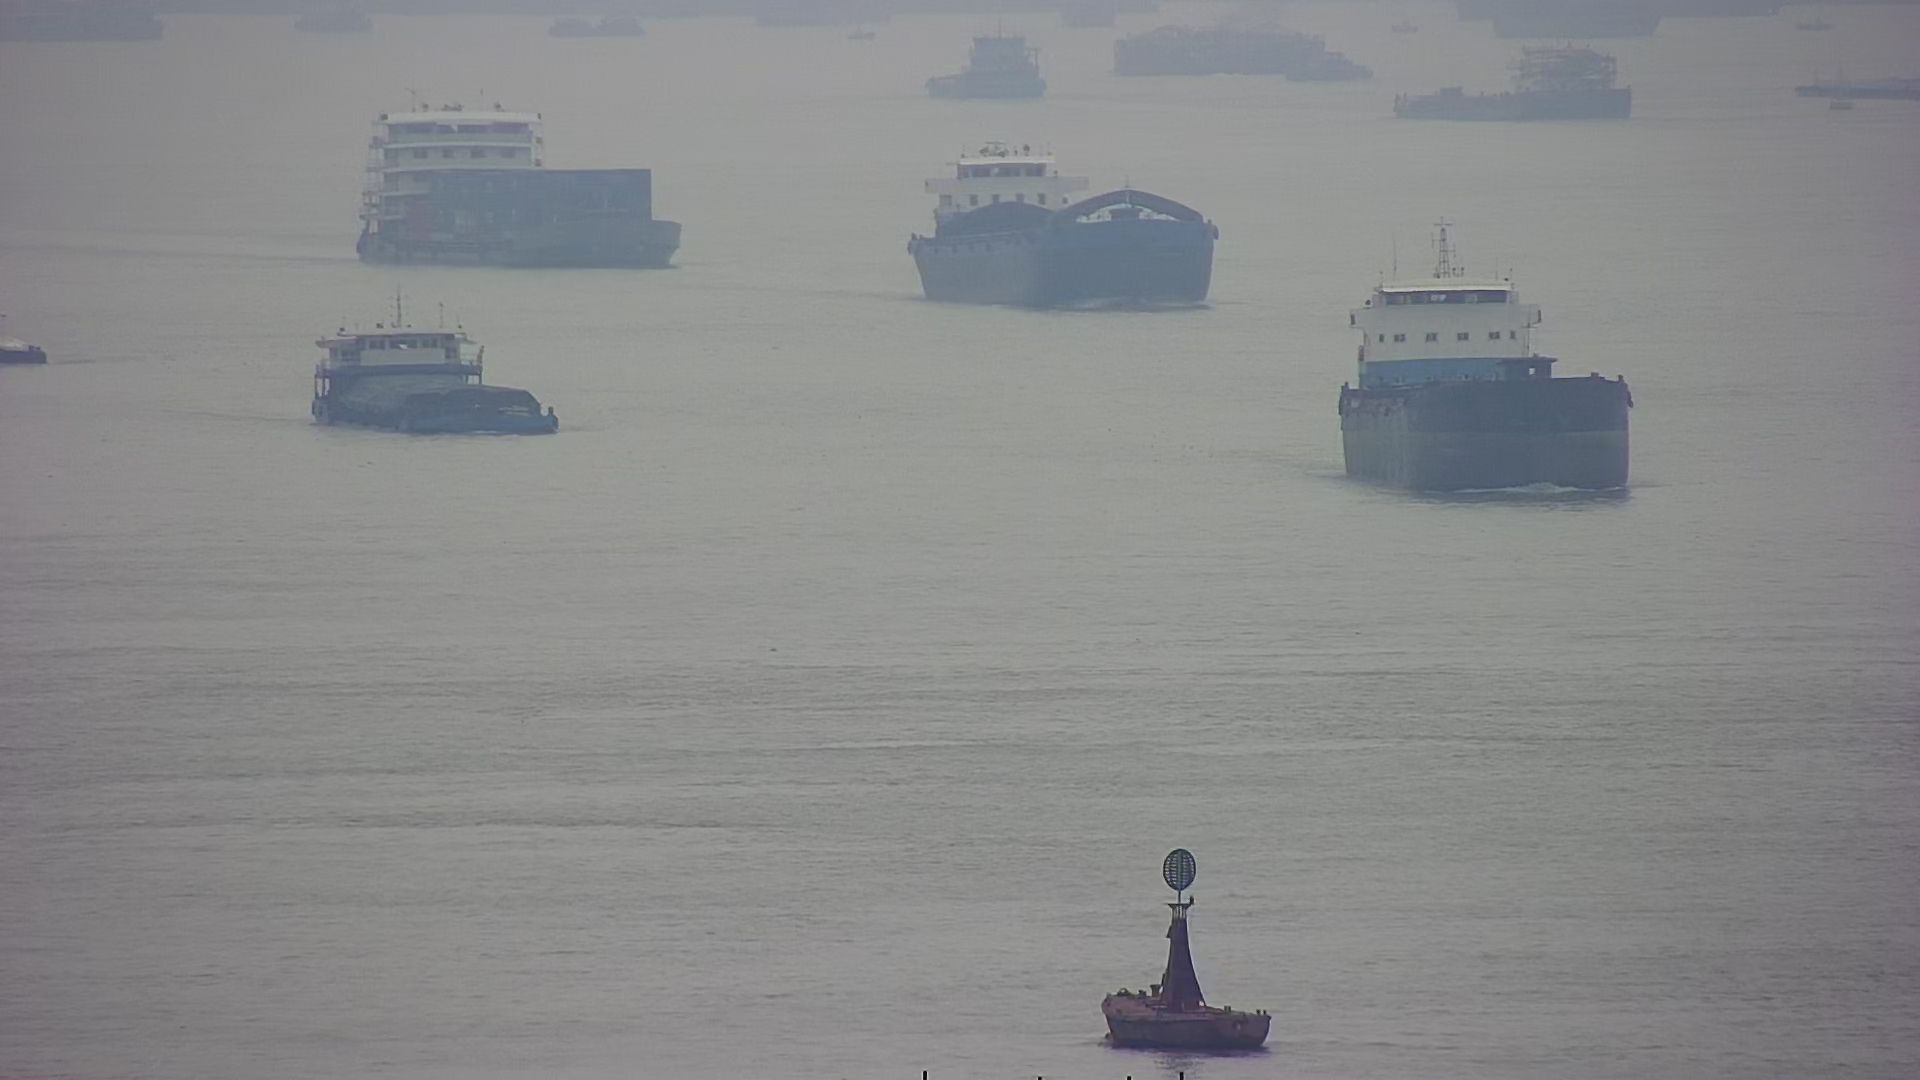boat: (1101, 852, 1267, 1051)
ship: (1344, 276, 1631, 491), (355, 96, 682, 262), (909, 156, 1217, 305), (310, 318, 556, 433), (1399, 51, 1630, 121), (924, 40, 1048, 94)
